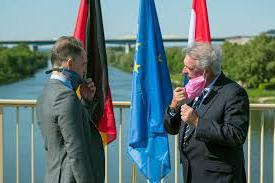mask_weared_incorrect: (179, 61, 194, 98), (72, 57, 92, 82)
